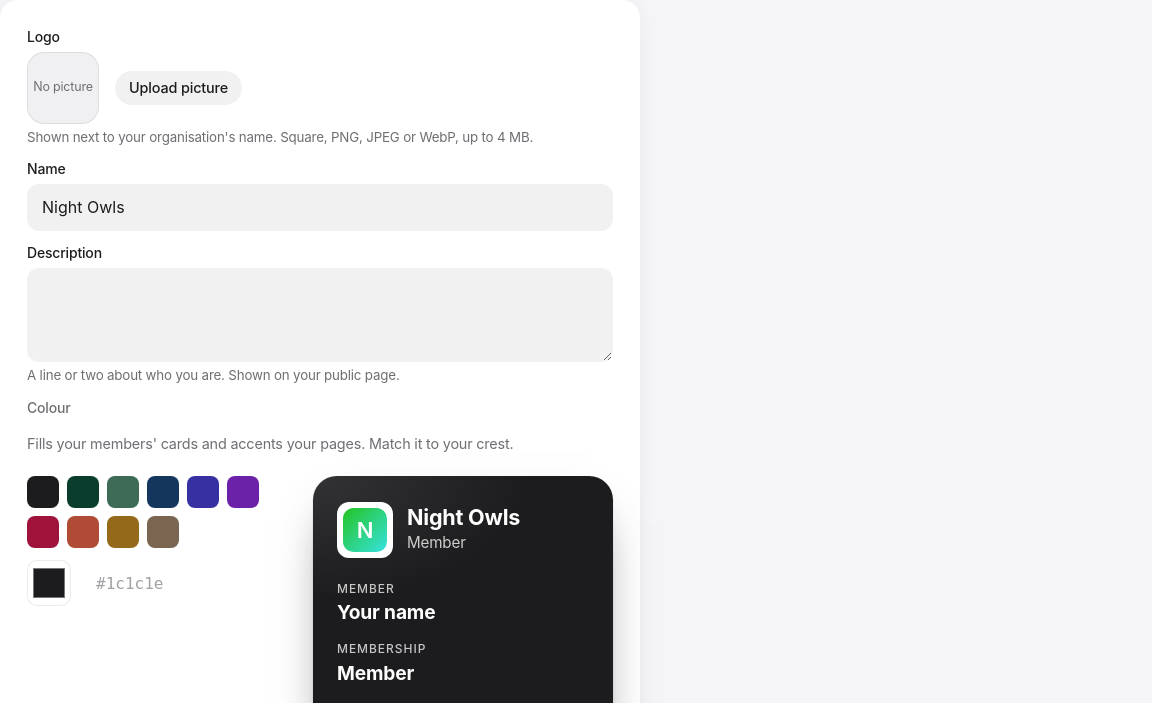
SettingsTab › refuses a colour white text cannot be read on, and offers a darker shade of it
This screenshot has width=1152, height=703.
In the field named "Colour code": (141, 583) [81,560,201,607], type "#f5e663"
(page scrolled)
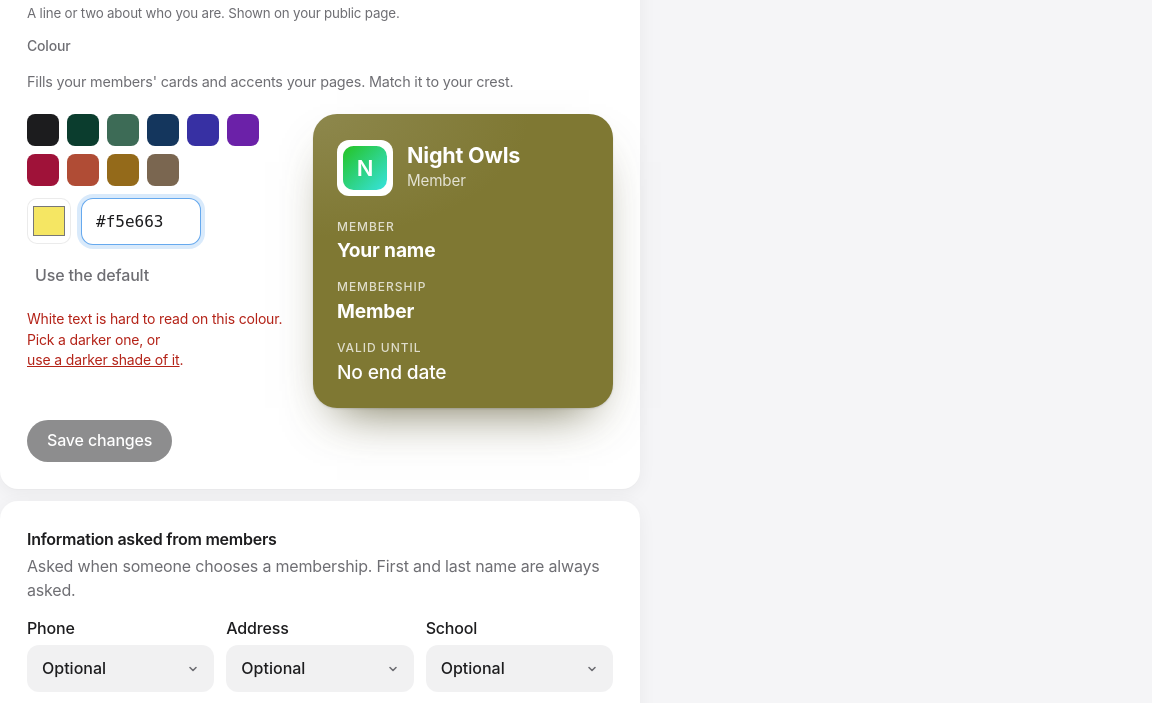
Expected: the button "Save changes" is disabled, [27,420,172,462]
Expected: the message shows "White text is hard to read on this colour", [27,310,282,348]
Click the button "use a darker shade of it": (103, 361) [27,350,180,371]
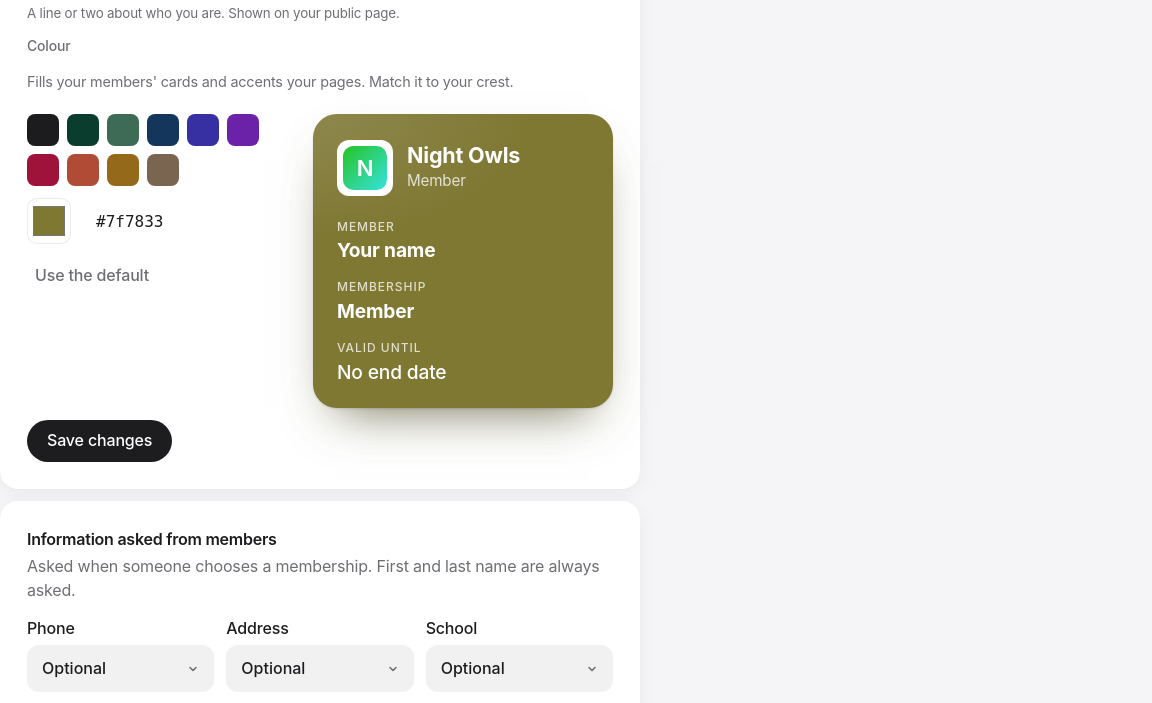
Expected: the message is gone
Click the button "Save changes": (100, 441) [27,420,172,462]
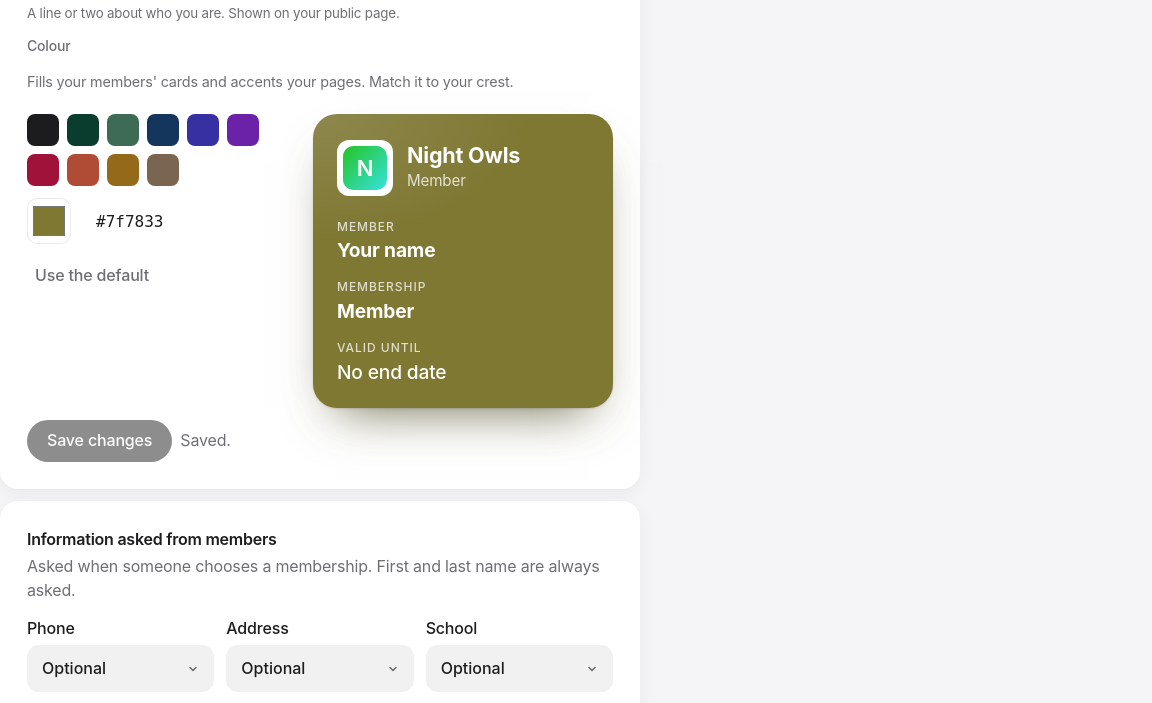
Expected: the text "Saved." is shown, [180,429,231,452]
